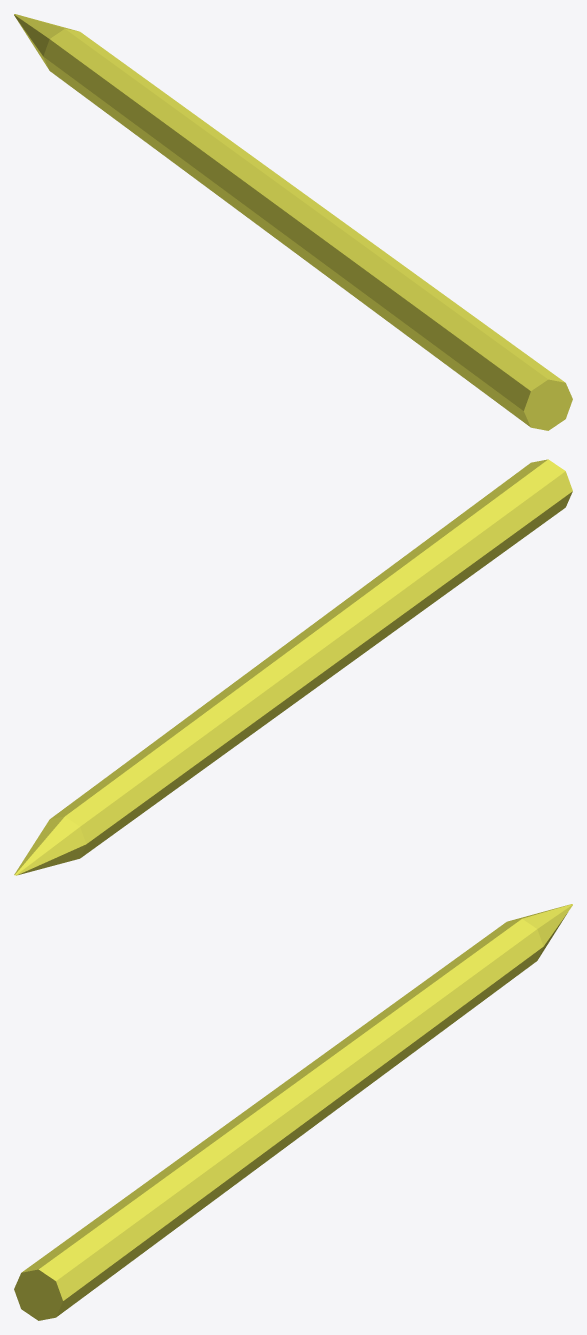
Rendered from Lapiz 4.fbx.
3 views of the same model, one above another, from view 1: azimuth 30°, elevation 25°; view 2: azimuth 150°, elevation 25°; view 3: azimuth 330°, elevation 25° (orthographic).
Parts seen in each view (by area): view 1: Lapiz_4; view 2: Lapiz_4; view 3: Lapiz_4.
Part boxes in pixels (x1=…): Lapiz_4: x1=14, y1=14, x2=572, y2=430; Lapiz_4: x1=14, y1=459, x2=572, y2=875; Lapiz_4: x1=14, y1=904, x2=572, y2=1320.
Bounding box in the file's own units: 0.00766 × 0.00766 × 0.1439.
